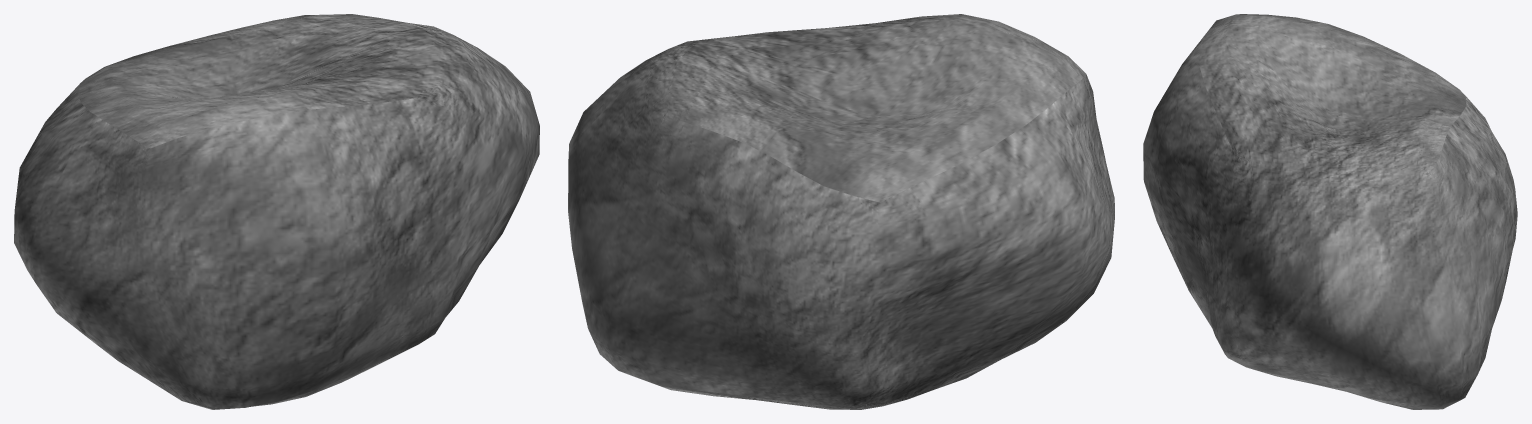
The model's file is large.fbx.
The picture shows the model from 3 angles, left to right: view 1: azimuth 30°, elevation 25°; view 2: azimuth 150°, elevation 25°; view 3: azimuth 270°, elevation 25°; orthographic projection. The views are drawn at different scales.
Parts seen in each view (by area): view 1: Cube; view 2: Cube; view 3: Cube.
Part boxes in pixels (x1,y1,x2,y2): Cube: (14, 14, 539, 409); Cube: (568, 14, 1114, 409); Cube: (1143, 14, 1517, 409).
Bounding box in the file's own units: 1377 × 838 × 1005.
